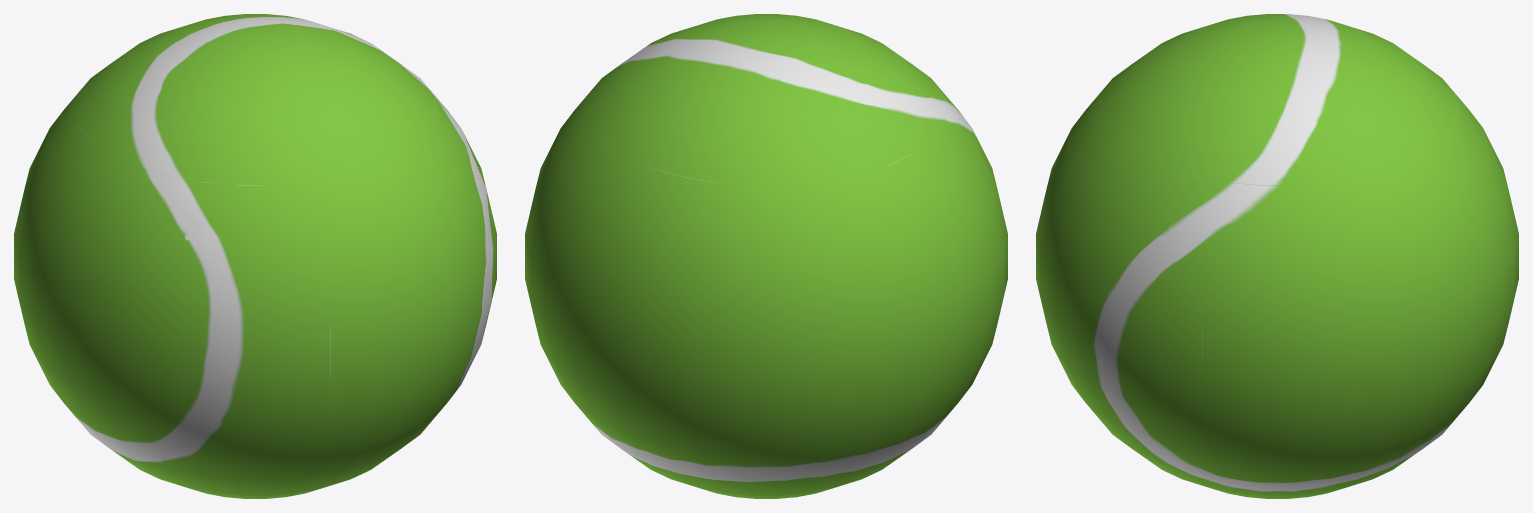
The model's file is TenisBall.fbx.
The picture shows the model from 3 angles, left to right: view 1: azimuth 30°, elevation 25°; view 2: azimuth 150°, elevation 25°; view 3: azimuth 270°, elevation 25°; orthographic projection.
Parts seen in each view (by area): view 1: TenisBall; view 2: TenisBall; view 3: TenisBall.
Boxes of the visible parts, box(x1,y1,x2,y2) form: TenisBall: box(14, 14, 496, 498); TenisBall: box(525, 14, 1007, 498); TenisBall: box(1036, 14, 1518, 498).
Size of the model in its own units: 198 by 200 by 199.
1 material, 1 textured.
